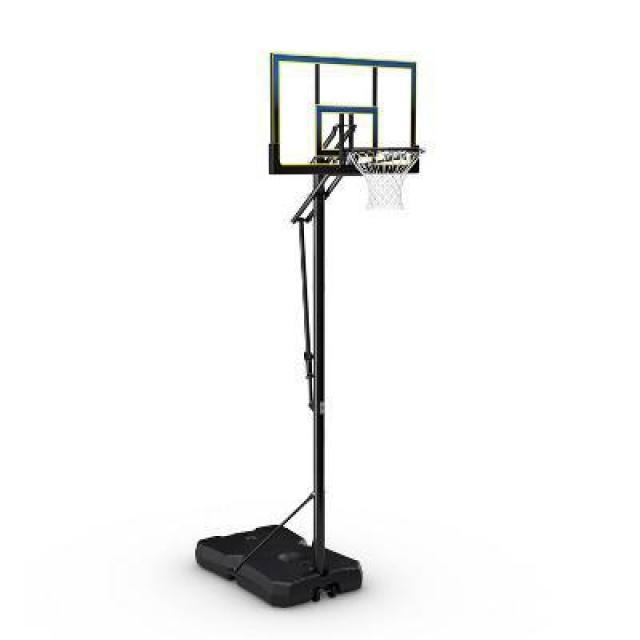hoop: (349, 147, 426, 211)
